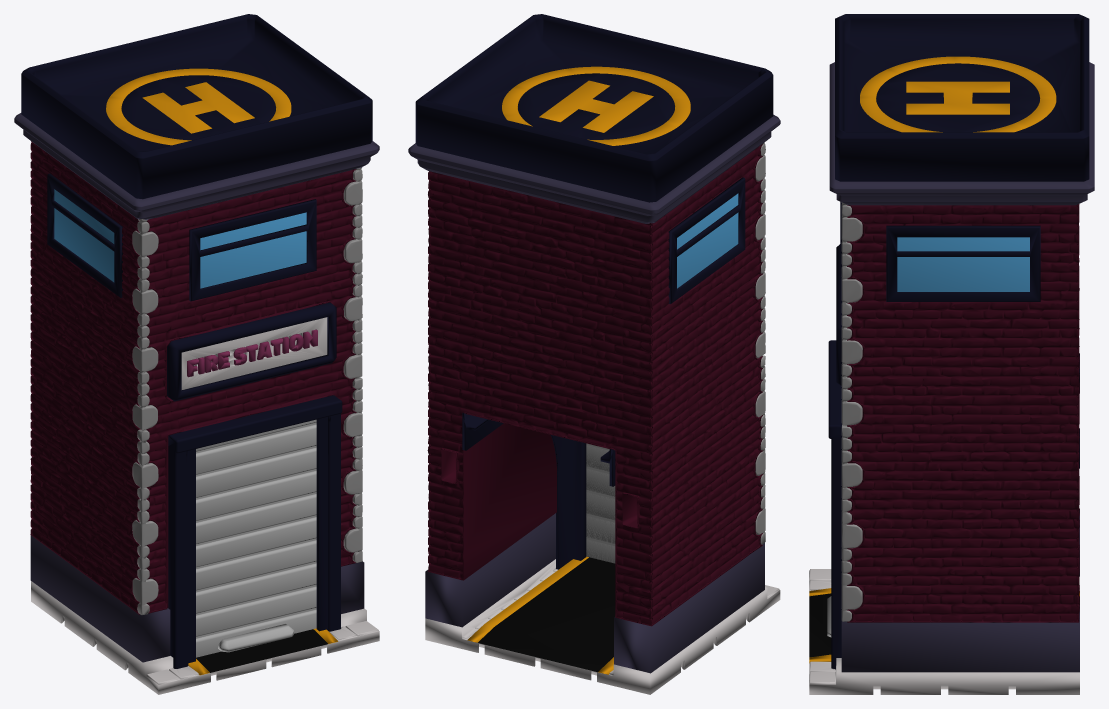
The model's file is game asset fire1.obj.
3 views of the same model, side by side, from view 1: azimuth 30°, elevation 25°; view 2: azimuth 150°, elevation 25°; view 3: azimuth 270°, elevation 25° (orthographic). The views are drawn at different scales.
Visible parts, largest first — view 1: main_buildign_(1)_2, Körper1:_22, Körper1:_24, sockel_dach, Körper1:_7, LIGHT_, PLACEMENT_PLATE, LAMP_2, Körper1:_29, Körper1:_28, LIGHT_2, Körper_2 (+17 smaller); view 2: main_buildign_(1)_2, Körper1:_22, Körper1:_7, floor, sockel_dach, PLACEMENT_PLATE, LAMP_2, Körper1:_24, Körper1:_27, LIGHT_, Körper1:_14, Körper_2 (+5 smaller); view 3: main_buildign_(1)_2, Körper1:_22, Körper1:_7, sockel_dach, PLACEMENT_PLATE, LIGHT_, LAMP_2, Körper1:_26, Körper1:_24, Körper_1, Körper_5, floor (+1 smaller).
Boxes of the visible parts, x1,y1,x2,y2 form: main_buildign_(1)_2: [30, 141, 356, 614]; Körper1:_22: [21, 14, 372, 199]; Körper1:_24: [168, 395, 342, 668]; sockel_dach: [14, 113, 379, 219]; Körper1:_7: [30, 535, 364, 662]; LIGHT_: [54, 189, 306, 288]; PLACEMENT_PLATE: [31, 581, 379, 694]; LAMP_2: [106, 68, 291, 145]; Körper1:_29: [167, 302, 336, 401]; Körper1:_28: [189, 199, 316, 301]; LIGHT_2: [181, 317, 327, 389]; Körper_2: [132, 219, 158, 430]; main_buildign_(1)_2: [427, 144, 763, 626]; Körper1:_22: [415, 14, 773, 202]; Körper1:_7: [425, 513, 764, 673]; floor: [478, 557, 615, 672]; sockel_dach: [408, 114, 780, 223]; PLACEMENT_PLATE: [425, 559, 780, 694]; LAMP_2: [502, 66, 690, 145]; Körper1:_24: [462, 412, 615, 569]; Körper1:_27: [668, 177, 745, 303]; LIGHT_: [677, 193, 738, 288]; Körper1:_14: [586, 443, 615, 562]; Körper_2: [755, 143, 765, 358]; main_buildign_(1)_2: [847, 204, 1079, 622]; Körper1:_22: [835, 14, 1089, 181]; Körper1:_7: [841, 509, 1079, 672]; sockel_dach: [829, 62, 1094, 205]; PLACEMENT_PLATE: [809, 569, 1079, 694]; LIGHT_: [897, 237, 1029, 291]; LAMP_2: [860, 56, 1056, 132]; Körper1:_26: [886, 225, 1040, 301]; Körper1:_24: [828, 340, 1079, 669]; Körper_1: [841, 202, 862, 425]; Körper_5: [841, 425, 862, 621]; floor: [809, 593, 1079, 657].
Bounding box in the file's own units: 111 × 230 × 105.
